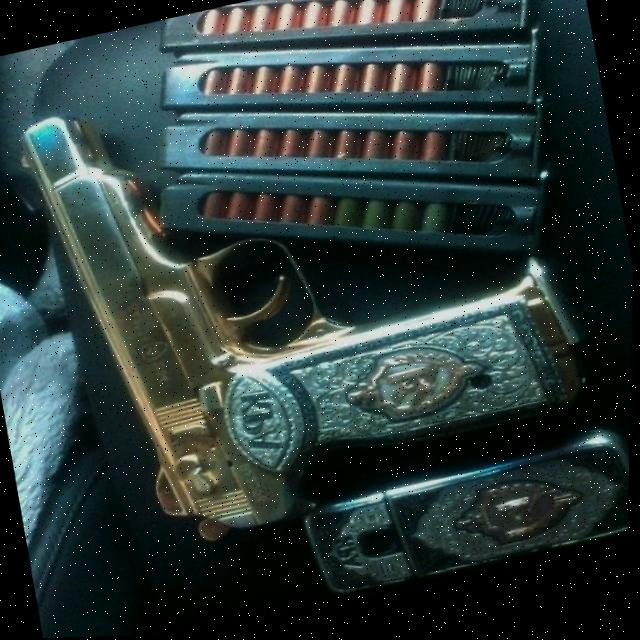pistol: (7, 11, 620, 571)
